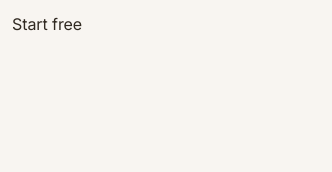
Test: on auth failure surfaces error and resets Turnstile
Click the button with test id "cta".
click(47, 24)  # box [12,12,82,36]
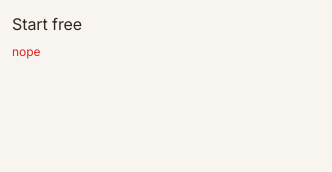
Check: the message "nope" is shown, box [12,44,40,59]
